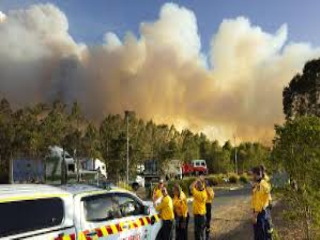smoke: (20, 7, 288, 147)
